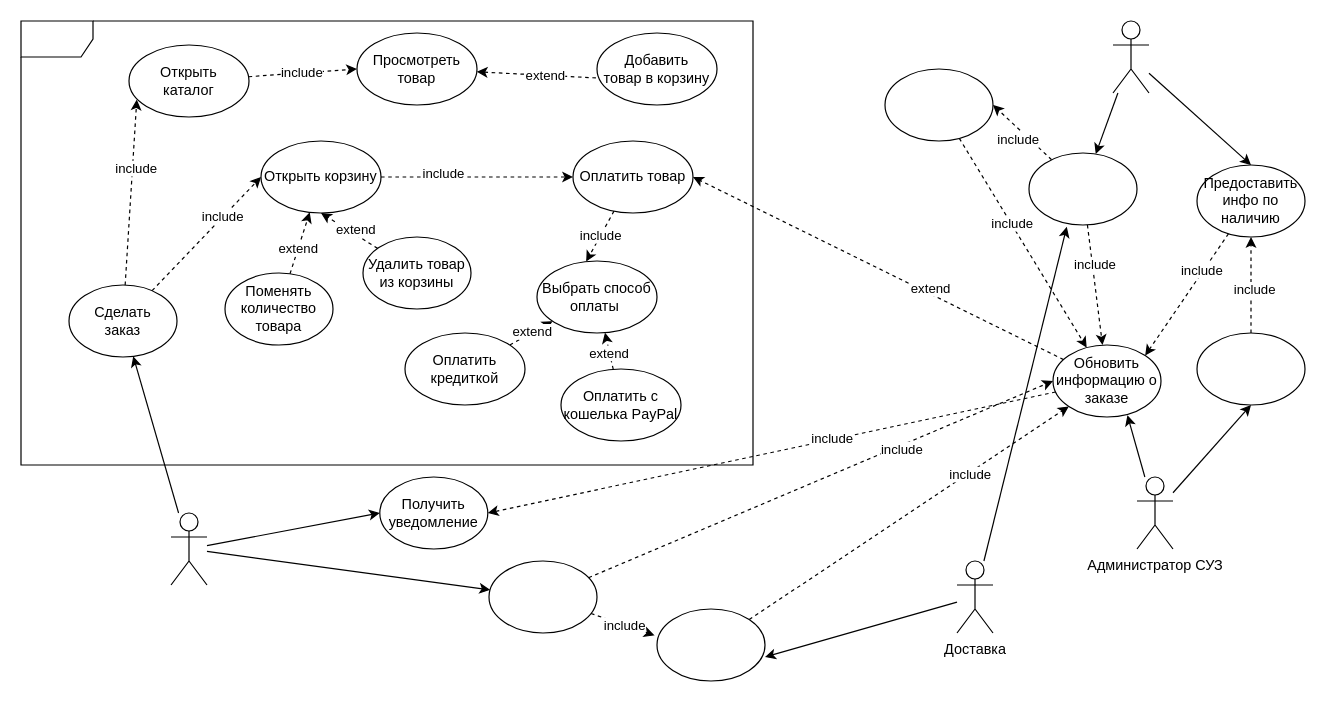
The diagram is 1326 pixels wide and 702 high, and some of its shapes have lost their labels. Each missing label, with the centre of its shape:
Web-сайт: [386,242]
Доставка заказа: [710,644]
Запросить инфо о наличии: [1250,368]
Передать в доставку: [1082,188]
Покупатель: [188,548]
Получить заказ: [542,596]
Собрать заказ: [938,104]
Сотрудник склада: [1130,56]
